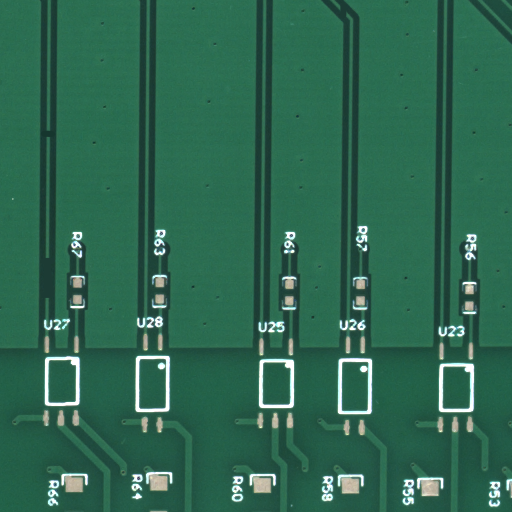Open_circuit: (47, 277, 58, 322), (343, 12, 357, 35), (47, 132, 59, 145)
